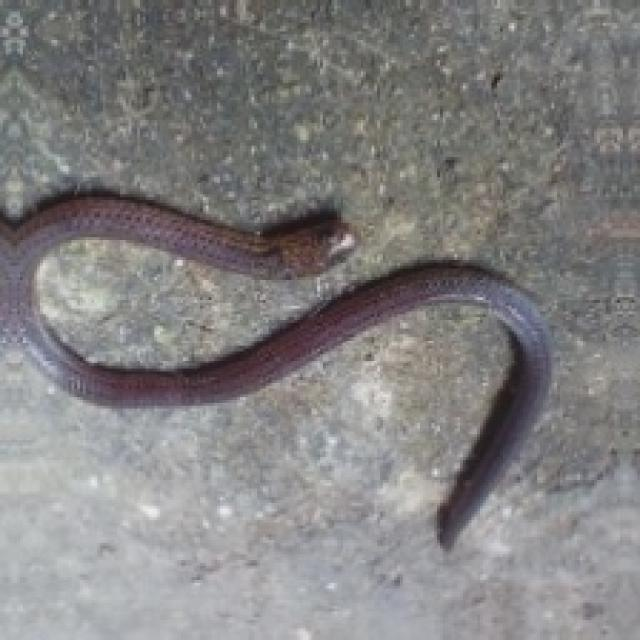gervais worm snake: (0, 194, 549, 546)
